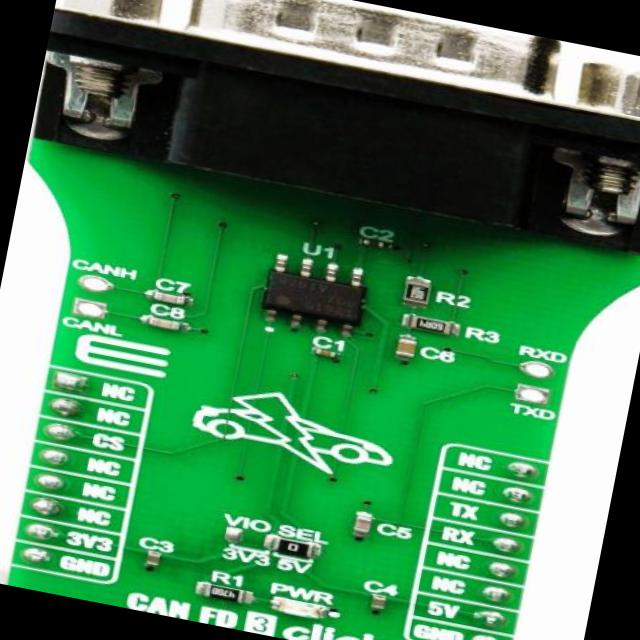IC: (255, 253, 374, 339)
LED: (269, 596, 329, 622)
capacitor: (150, 292, 188, 308), (394, 337, 417, 360), (147, 316, 180, 332), (352, 516, 372, 536), (315, 348, 340, 360), (145, 551, 160, 569), (370, 598, 386, 614), (362, 238, 386, 248)
connector: (30, 0, 640, 256)
resistor: (202, 582, 250, 604), (269, 536, 315, 558), (409, 315, 452, 336), (404, 280, 434, 306)
